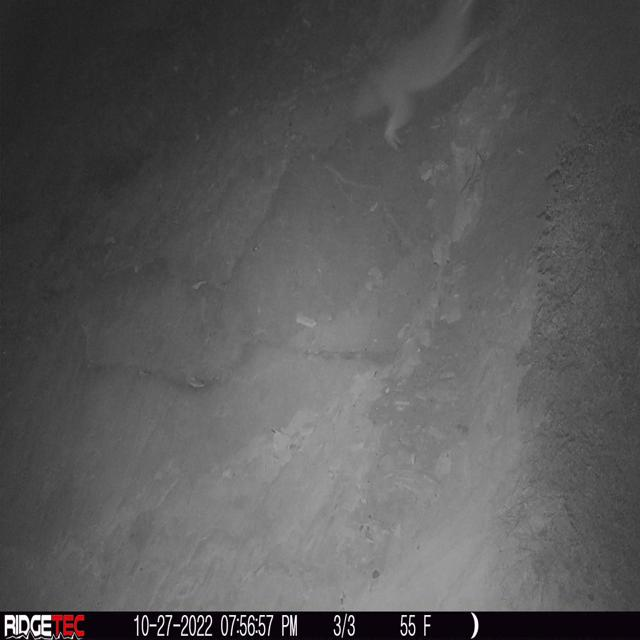coyote: (348, 0, 498, 151)
